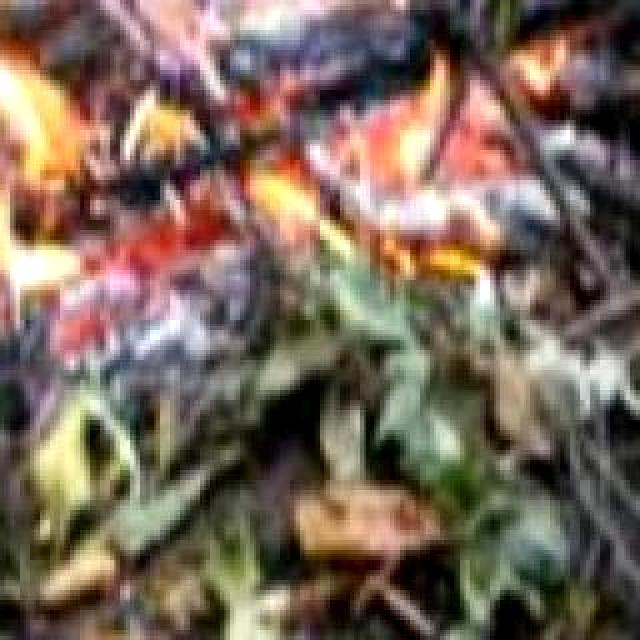fire: (210, 50, 536, 286), (0, 0, 192, 380)
